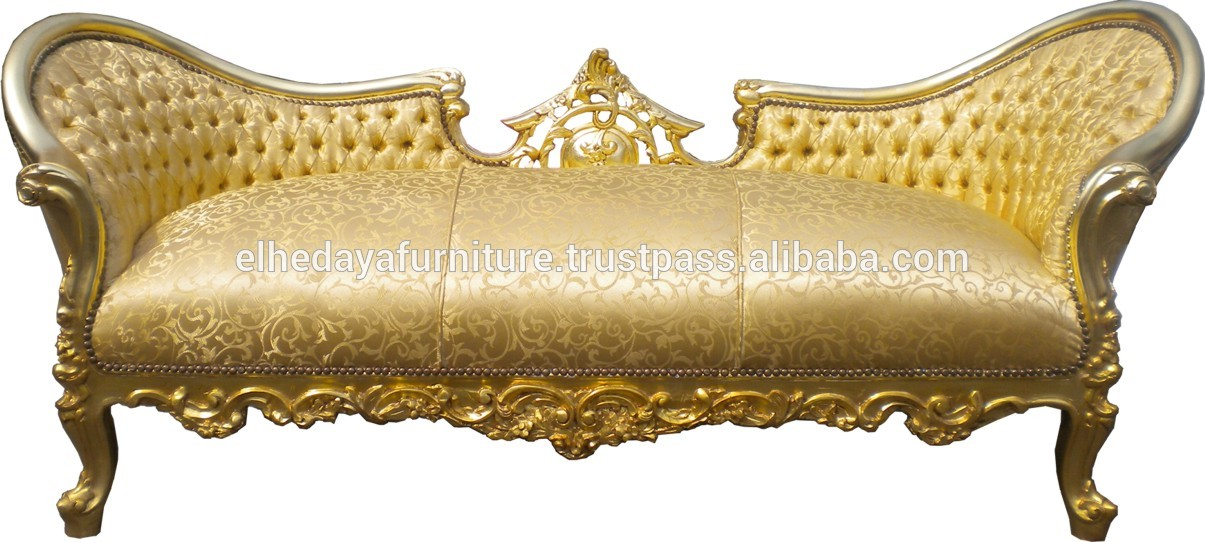chairs: (6, 8, 1205, 542)
